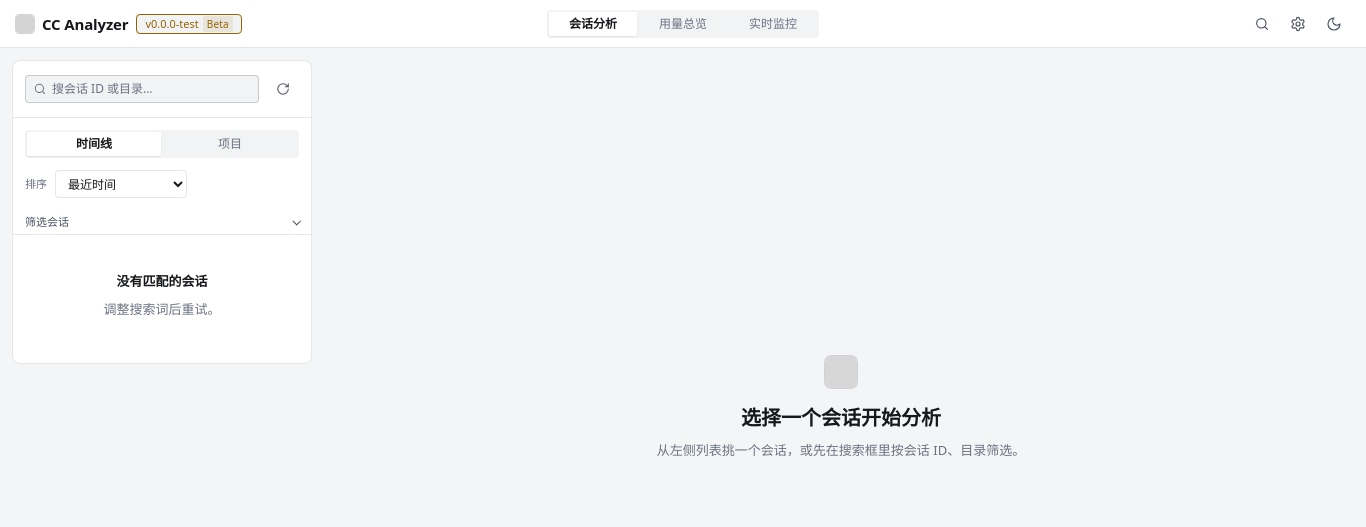
it: 已保存的监控台子视图会被恢复
Click the tab "实时监控" at x=773, y=24, box [729,12,817,36]
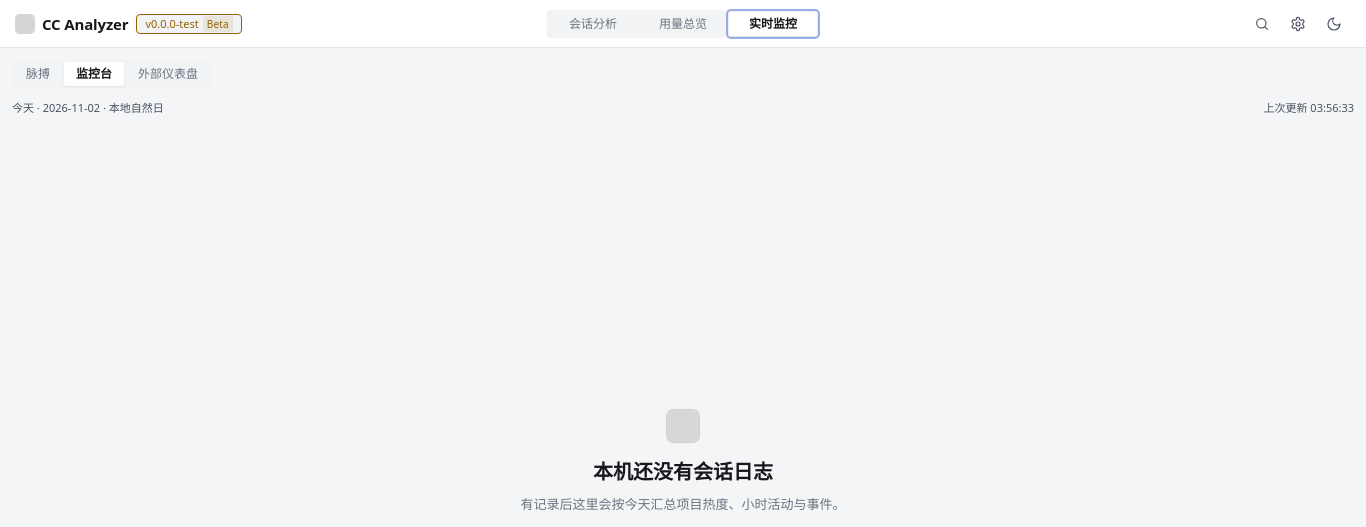
Now the tab "监控台" is shown, box [64,62,124,86]
